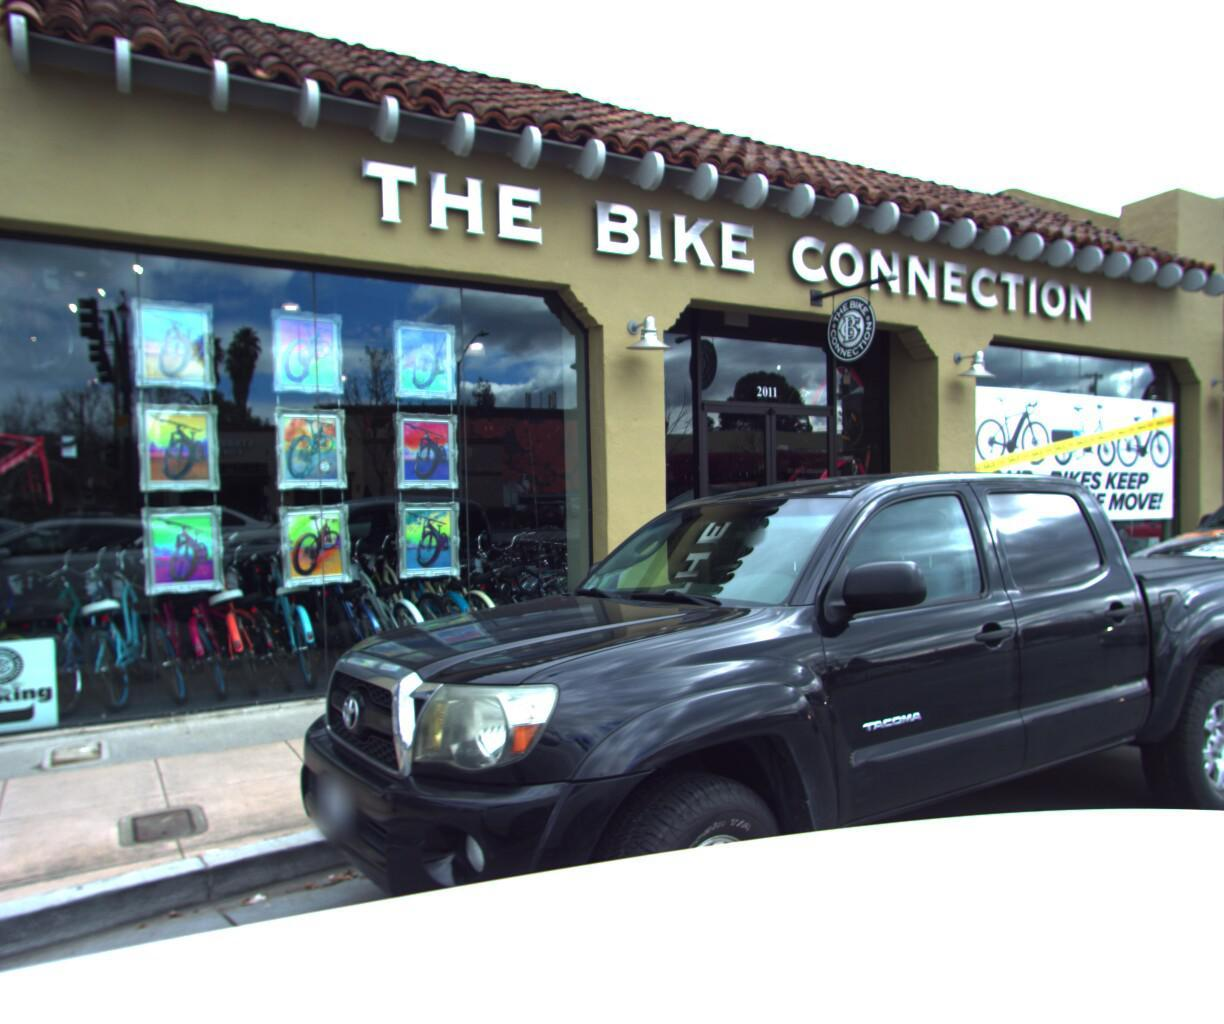car: (229, 426, 1224, 1024), (1072, 401, 1224, 786)
